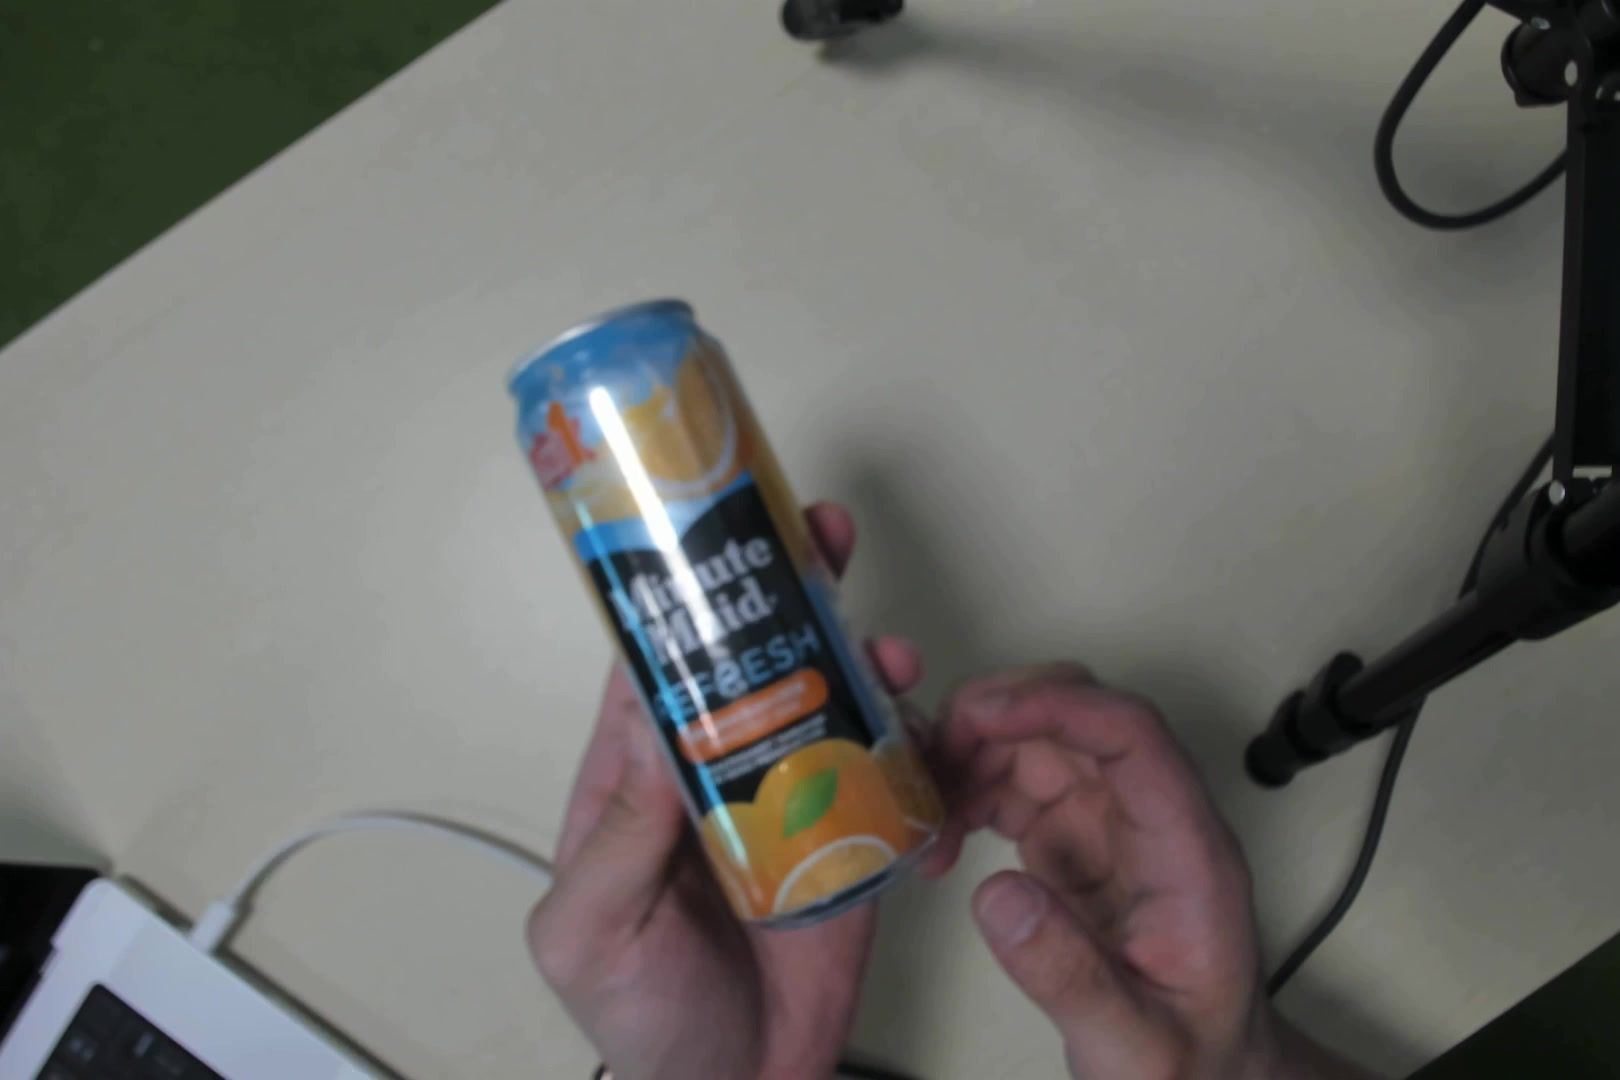SoftDrinks_200-299g_Halal_Healthy: (527, 260, 915, 881)
